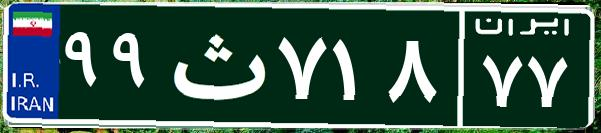1: (330, 28, 385, 110)
7: (273, 28, 330, 110), (475, 38, 525, 113), (525, 38, 570, 115)
8: (385, 28, 445, 110)
9: (57, 26, 110, 107), (110, 28, 158, 105)
ث: (158, 15, 273, 115)
